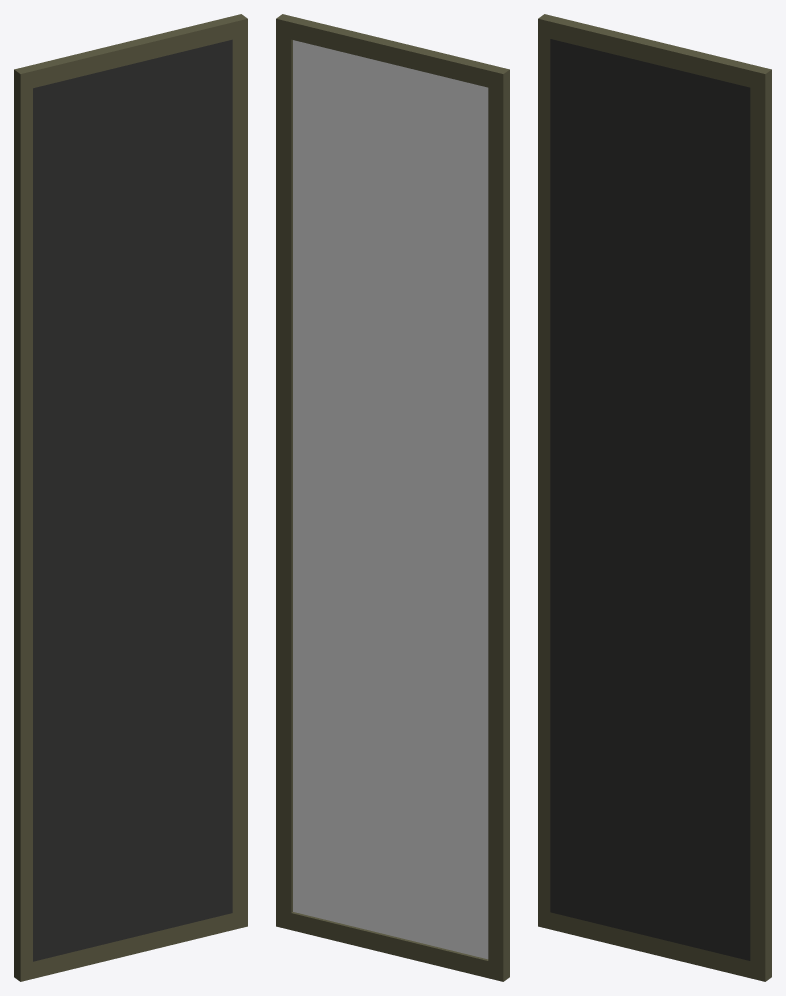
File: Akademik_obraz 1.fbx
3 views of the same model, side by side, from view 1: azimuth 30°, elevation 25°; view 2: azimuth 150°, elevation 25°; view 3: azimuth 330°, elevation 25° (orthographic).
Parts seen in each view (by area): view 1: Group3; view 2: Group2, Group3; view 3: Group3.
Part boxes in pixels (box(x1,y1,x2,y2)): Group3: box(14, 14, 247, 981); Group2: box(293, 40, 488, 959); Group3: box(276, 14, 509, 981); Group3: box(538, 14, 771, 981).
Bounding box in the file's own units: 0.4593 × 1.75 × 0.0225.
